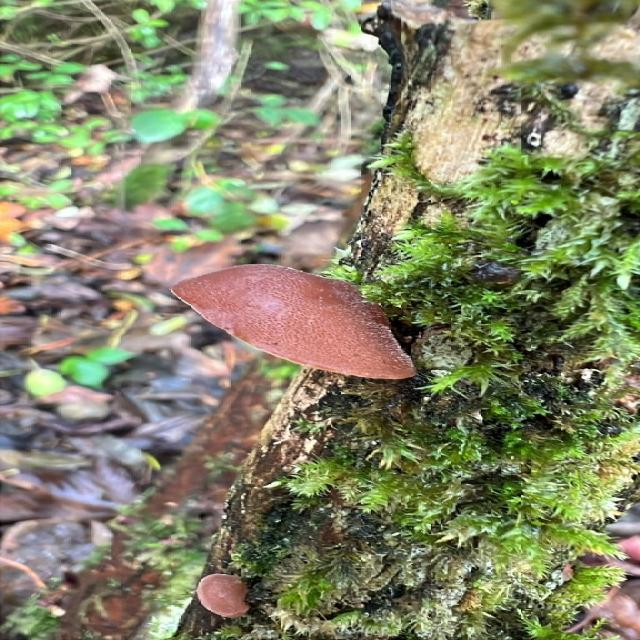Fase Muda: (196, 571, 260, 617)
Matang: (157, 260, 424, 386)
